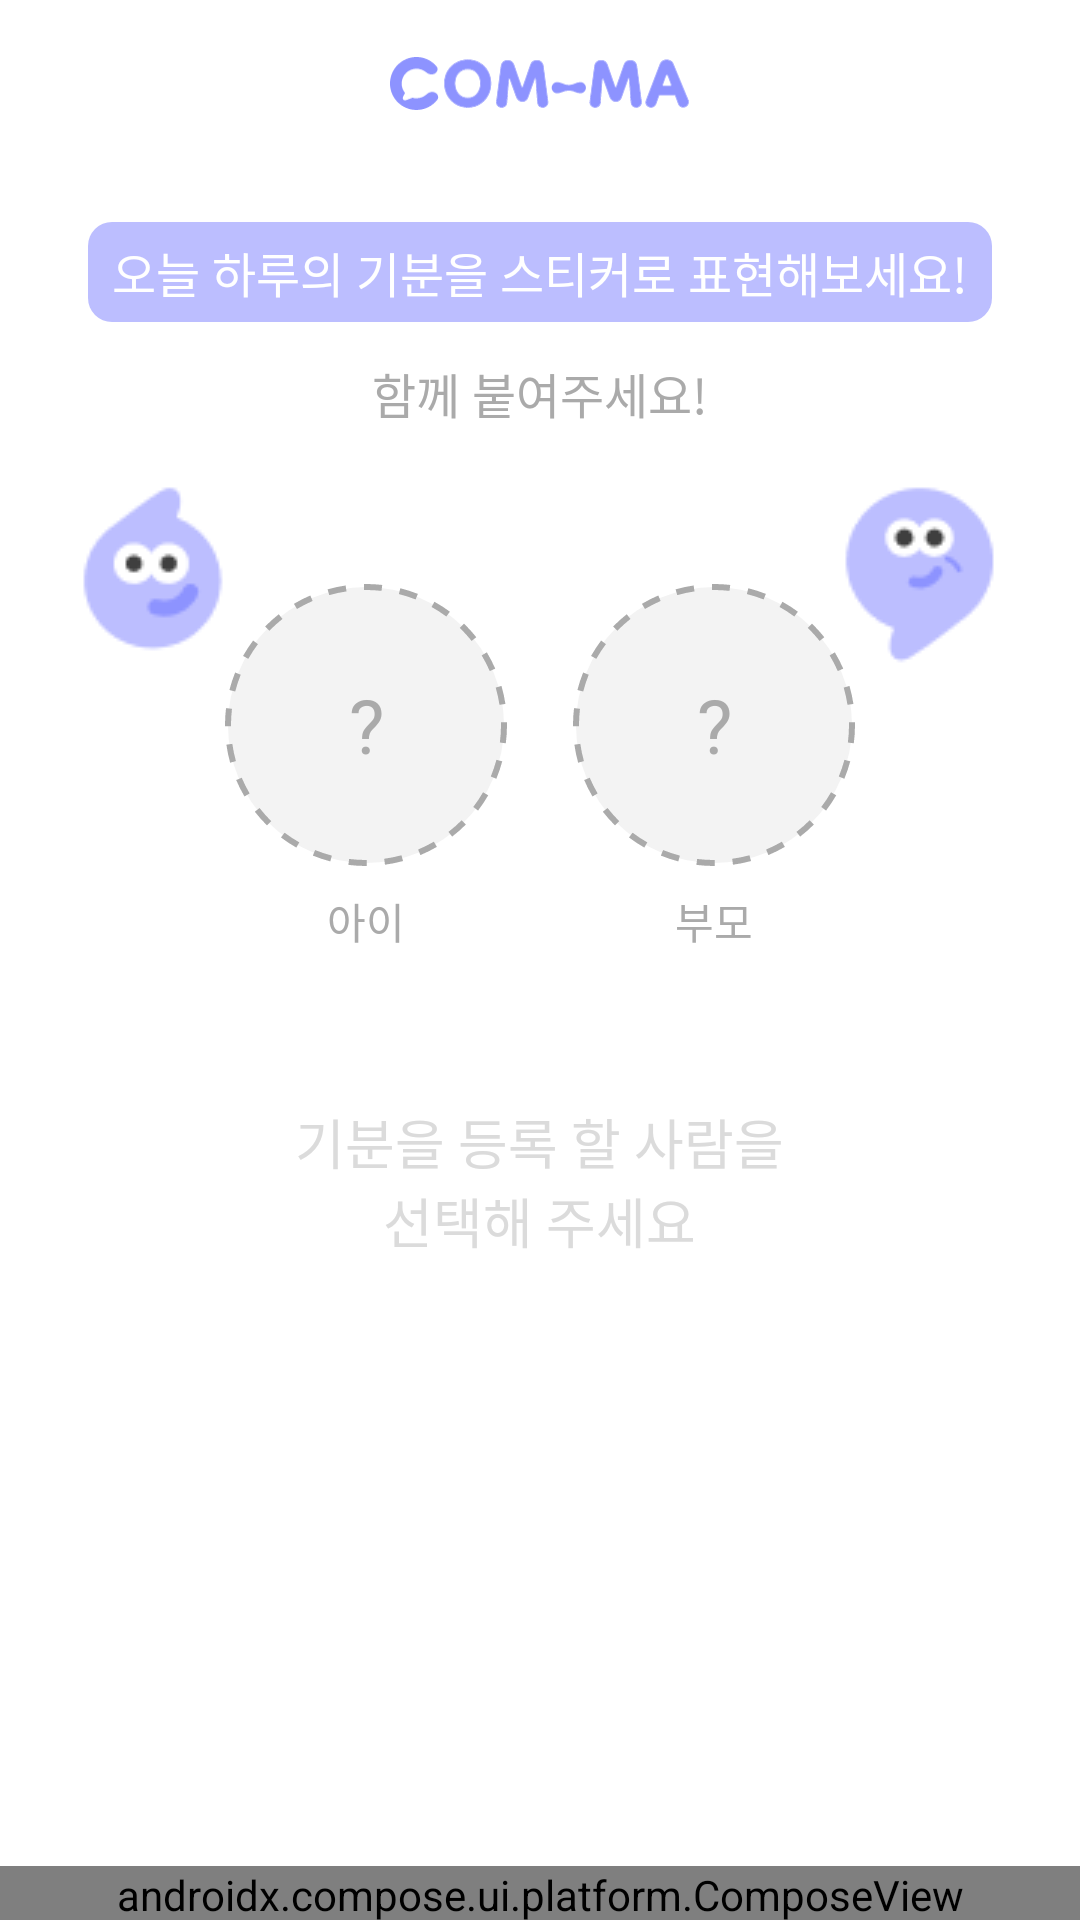

Icon click points for this 1080w x 1920h phone screenshot, format point (x, y):
char child: point (153, 568)
char parents: point (913, 579)
